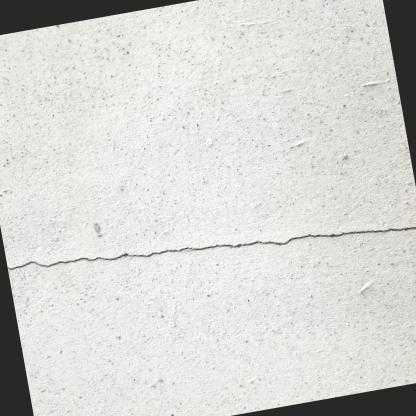crack: (7, 225, 416, 268)
